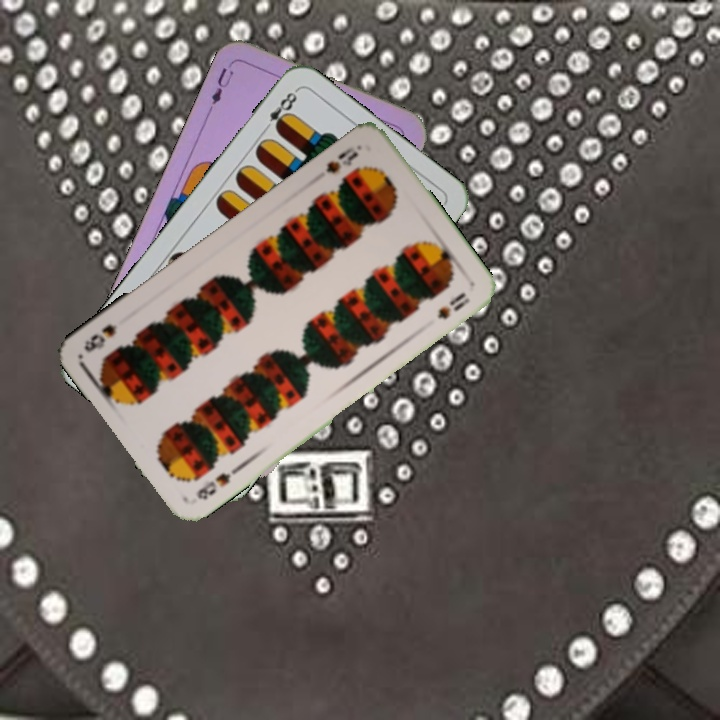E8: (258, 86, 300, 135)
EU: (204, 58, 239, 113)
S8: (192, 468, 233, 503), (322, 142, 361, 176)
